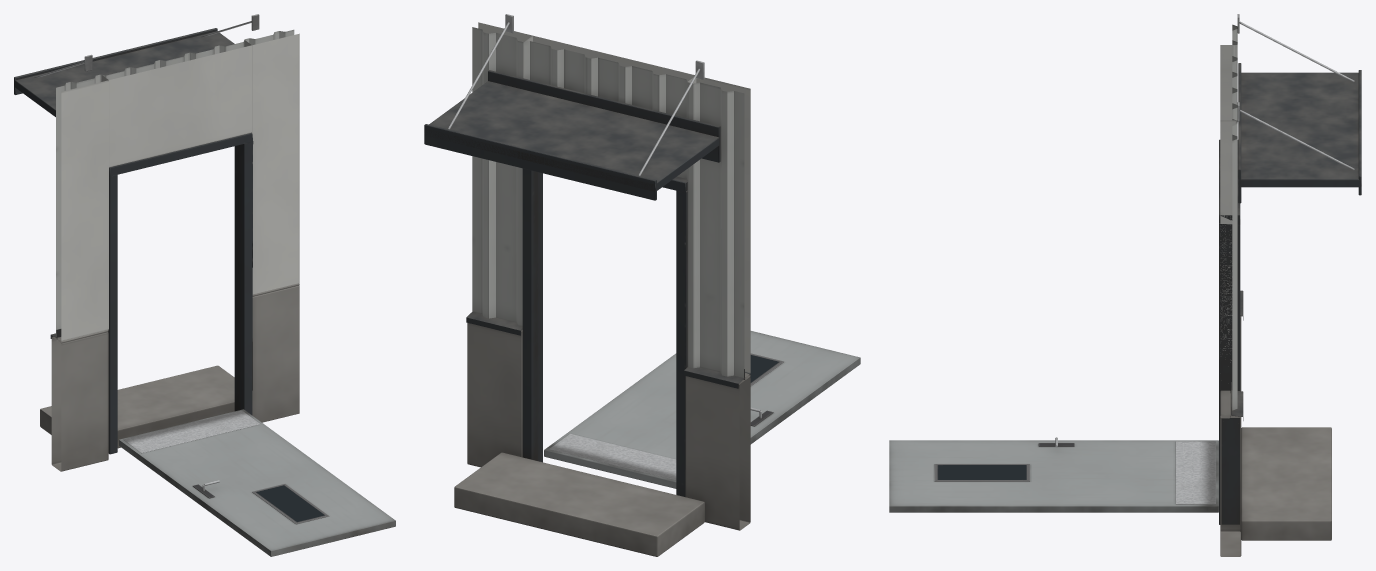
The model's file is Door_Personnel.fbx.
3 views of the same model, side by side, from view 1: azimuth 30°, elevation 25°; view 2: azimuth 150°, elevation 25°; view 3: azimuth 270°, elevation 25° (orthographic). The views are drawn at different scales.
Parts seen in each view (by area): view 1: Door_Personnel_LOD0, Leaf_LOD0.001; view 2: Door_Personnel_LOD0, Leaf_LOD0.001; view 3: Door_Personnel_LOD0, Leaf_LOD0.001.
Part boxes in pixels (x1,y1,x2,y2): Door_Personnel_LOD0: (14,14,299,471); Leaf_LOD0.001: (119,409,395,556); Door_Personnel_LOD0: (424,14,750,556); Leaf_LOD0.001: (544,331,860,488); Door_Personnel_LOD0: (1219,14,1361,556); Leaf_LOD0.001: (889,437,1218,512).
Size of what is drawn, in the model's own units: 2 by 3.22 by 3.18.
Materials: 1 (1 with a texture image).
